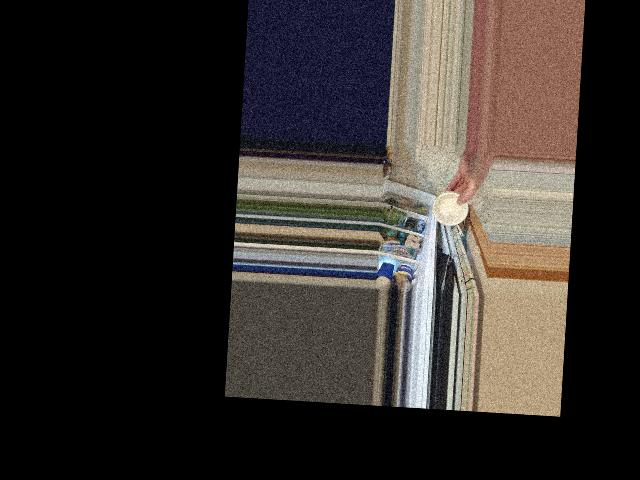cotage: (431, 189, 466, 228)
